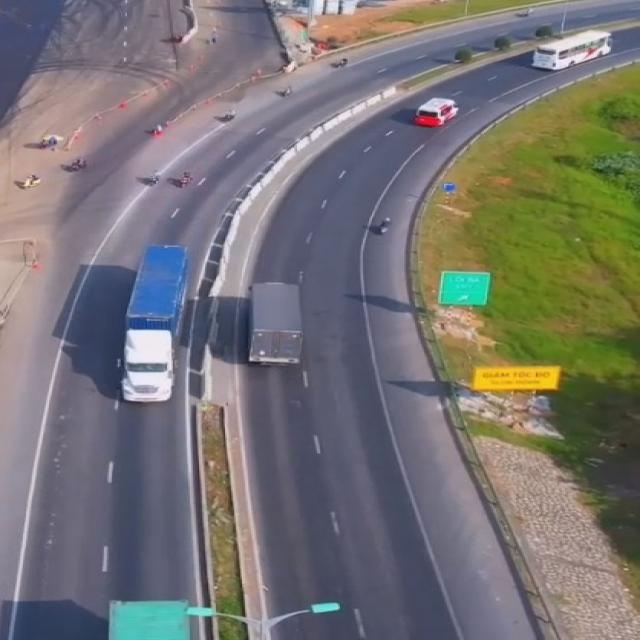bus: (527, 28, 614, 68), (417, 98, 462, 127)
motorbike: (377, 218, 389, 234)
truck: (126, 243, 190, 401), (246, 276, 308, 365), (104, 596, 188, 640)
